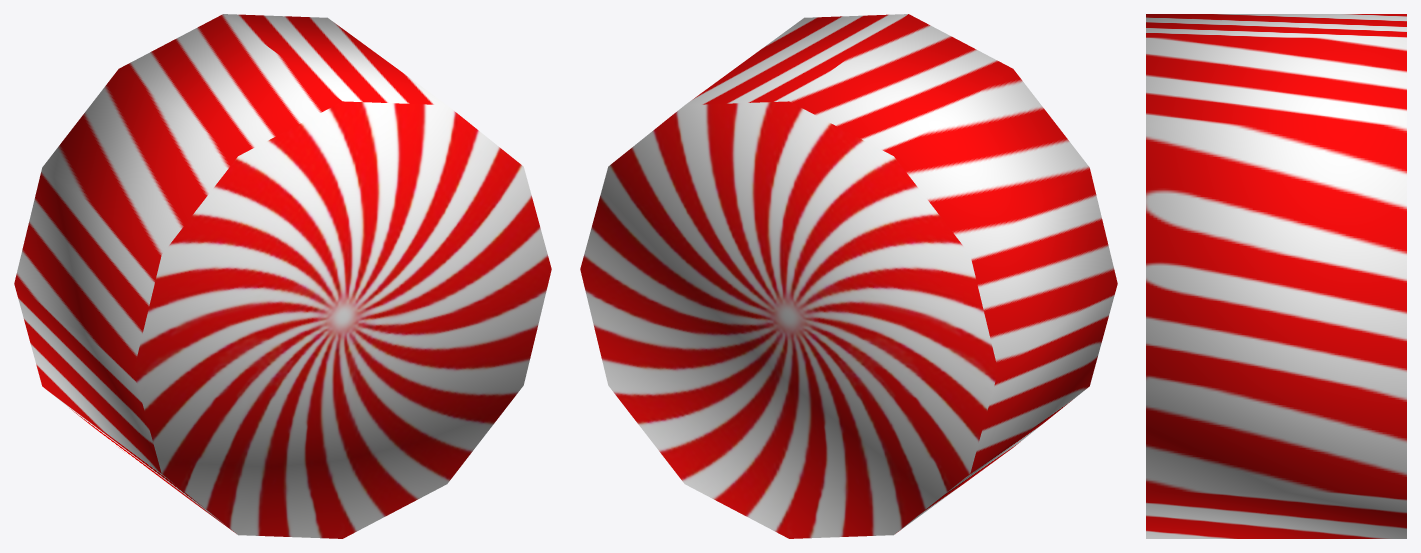
Rendered from candy3.FBX.
3 renders of one model, left to right at view 1: azimuth 30°, elevation 25°; view 2: azimuth 150°, elevation 25°; view 3: azimuth 270°, elevation 25°, orthographic. The views are drawn at different scales.
Visible parts, largest first — view 1: candy3; view 2: candy3; view 3: candy3.
Part boxes in pixels (<box>): candy3: <box>14,14,551,538</box>; candy3: <box>580,14,1117,538</box>; candy3: <box>1146,14,1406,538</box>.
Bounding box in the file's own units: 19.28 × 19.28 × 9.54.
